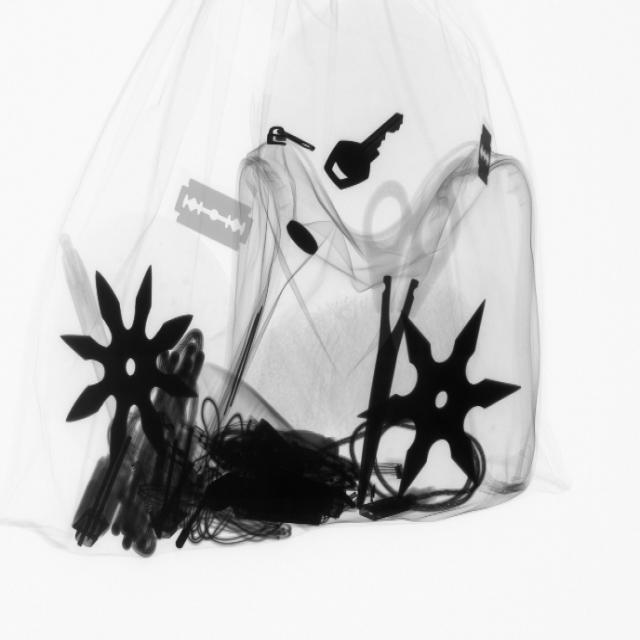BLADE: (173, 173, 262, 260), (472, 117, 505, 192)
SHURIKEN: (370, 288, 517, 504), (63, 262, 200, 471)
